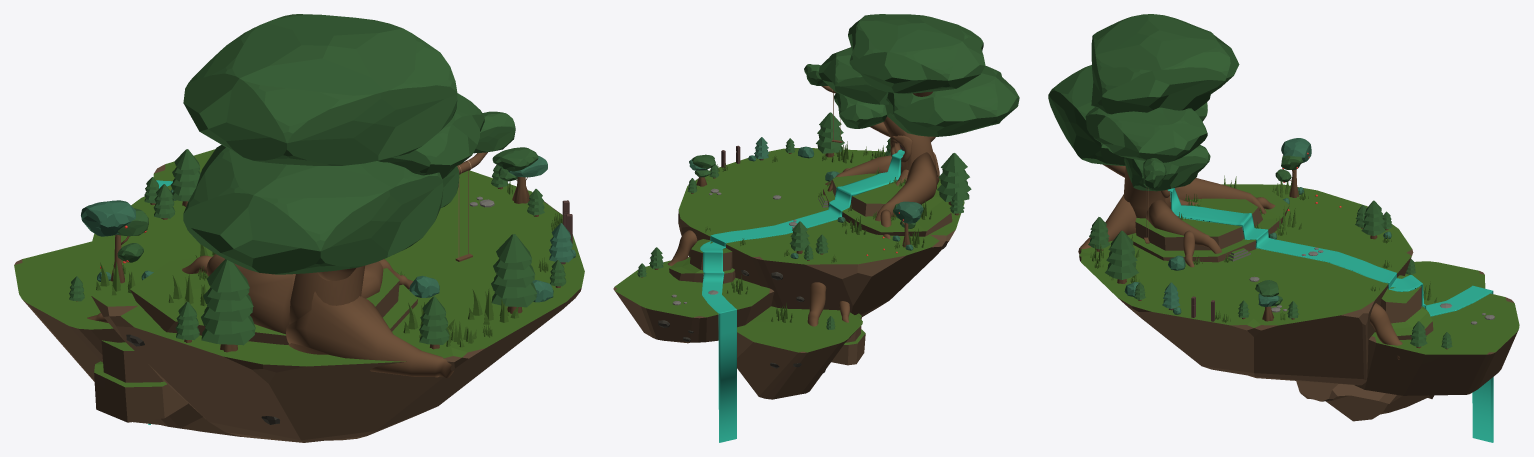
3 views of the same model, side by side, from view 1: azimuth 30°, elevation 25°; view 2: azimuth 150°, elevation 25°; view 3: azimuth 270°, elevation 25° (orthographic). The views are drawn at different scales.
Parts seen in each view (by area): view 1: Cube, Cube.049, Cube.051, Cube.002, Cylinder.021, Cube.005, Cube.004, Cube.048, Cylinder.018, Cylinder.012, Cube.034, Cube.256 (+7 smaller); view 2: Cube, Cube.049, Cube.002, Cube.001, Cube.037, Cube.051, Cube.005, Cube.048, Cylinder.018, Cube.003, Cube.050, Cylinder.012 (+5 smaller); view 3: Cube, Cube.049, Cube.001, Cube.037, Cube.048, Cube.005, Cube.002, Cube.051, Cube.050, Cube.003, Cylinder.016, Cylinder.018 (+5 smaller).
Part boxes in pixels (box(x1,y1,x2,y2)): Cube: box(83, 170, 584, 442); Cube.049: box(183, 14, 457, 165); Cube.051: box(183, 145, 443, 274); Cube.002: box(14, 241, 242, 436); Cylinder.021: box(286, 291, 453, 378); Cube.005: box(130, 255, 417, 344); Cube.004: box(94, 340, 188, 422); Cube.048: box(378, 93, 484, 178); Cylinder.018: box(206, 254, 295, 334); Cylinder.012: box(288, 265, 364, 354); Cube.034: box(81, 200, 135, 236); Cube.256: box(473, 111, 515, 153); Cube: box(678, 148, 964, 316); Cube.049: box(848, 14, 985, 93); Cube.002: box(737, 306, 862, 399); Cube.001: box(613, 257, 774, 343); Cube.037: box(700, 149, 904, 442); Cube.051: box(885, 66, 1019, 136); Cube.005: box(823, 173, 952, 236); Cube.048: box(818, 47, 888, 104); Cylinder.018: box(875, 152, 937, 221); Cube.003: box(669, 239, 735, 283); Cube.050: box(834, 92, 887, 128); Cylinder.012: box(883, 116, 936, 189); Cube: box(1079, 184, 1413, 385); Cube.049: box(1091, 14, 1239, 114); Cube.001: box(1354, 284, 1519, 395); Cube.037: box(1168, 188, 1493, 442); Cube.048: box(1085, 107, 1207, 162); Cube.005: box(1127, 184, 1289, 262); Cube.002: box(1296, 261, 1485, 421); Cube.051: box(1048, 65, 1207, 165); Cube.050: box(1124, 145, 1210, 191); Cube.003: box(1375, 275, 1433, 339); Cylinder.016: box(1146, 200, 1221, 253); Cylinder.018: box(1175, 178, 1266, 213).
Bounding box in the file's own units: 25.7 × 30.65 × 34.41.
